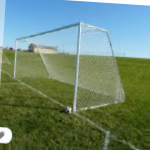goals: (12, 22, 124, 111)
